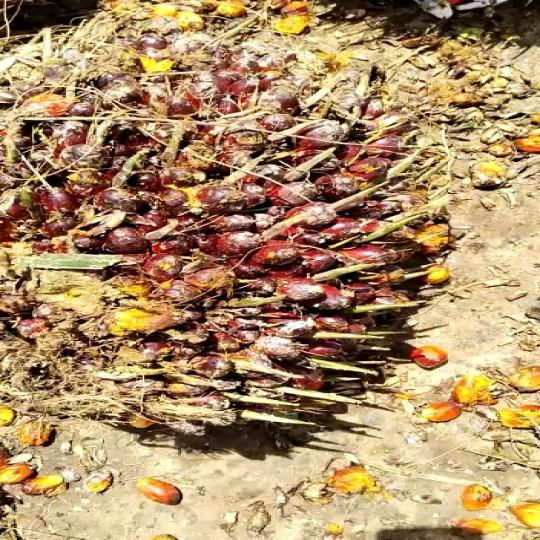kurang masak: (0, 51, 460, 470)
